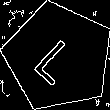L_NE: (29, 28, 88, 86)
